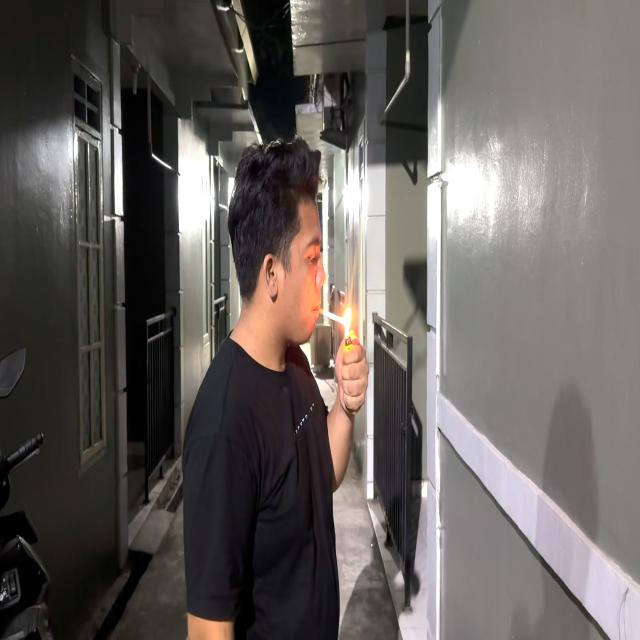cigarette: (314, 299, 360, 345)
smoking: (217, 128, 376, 496)
